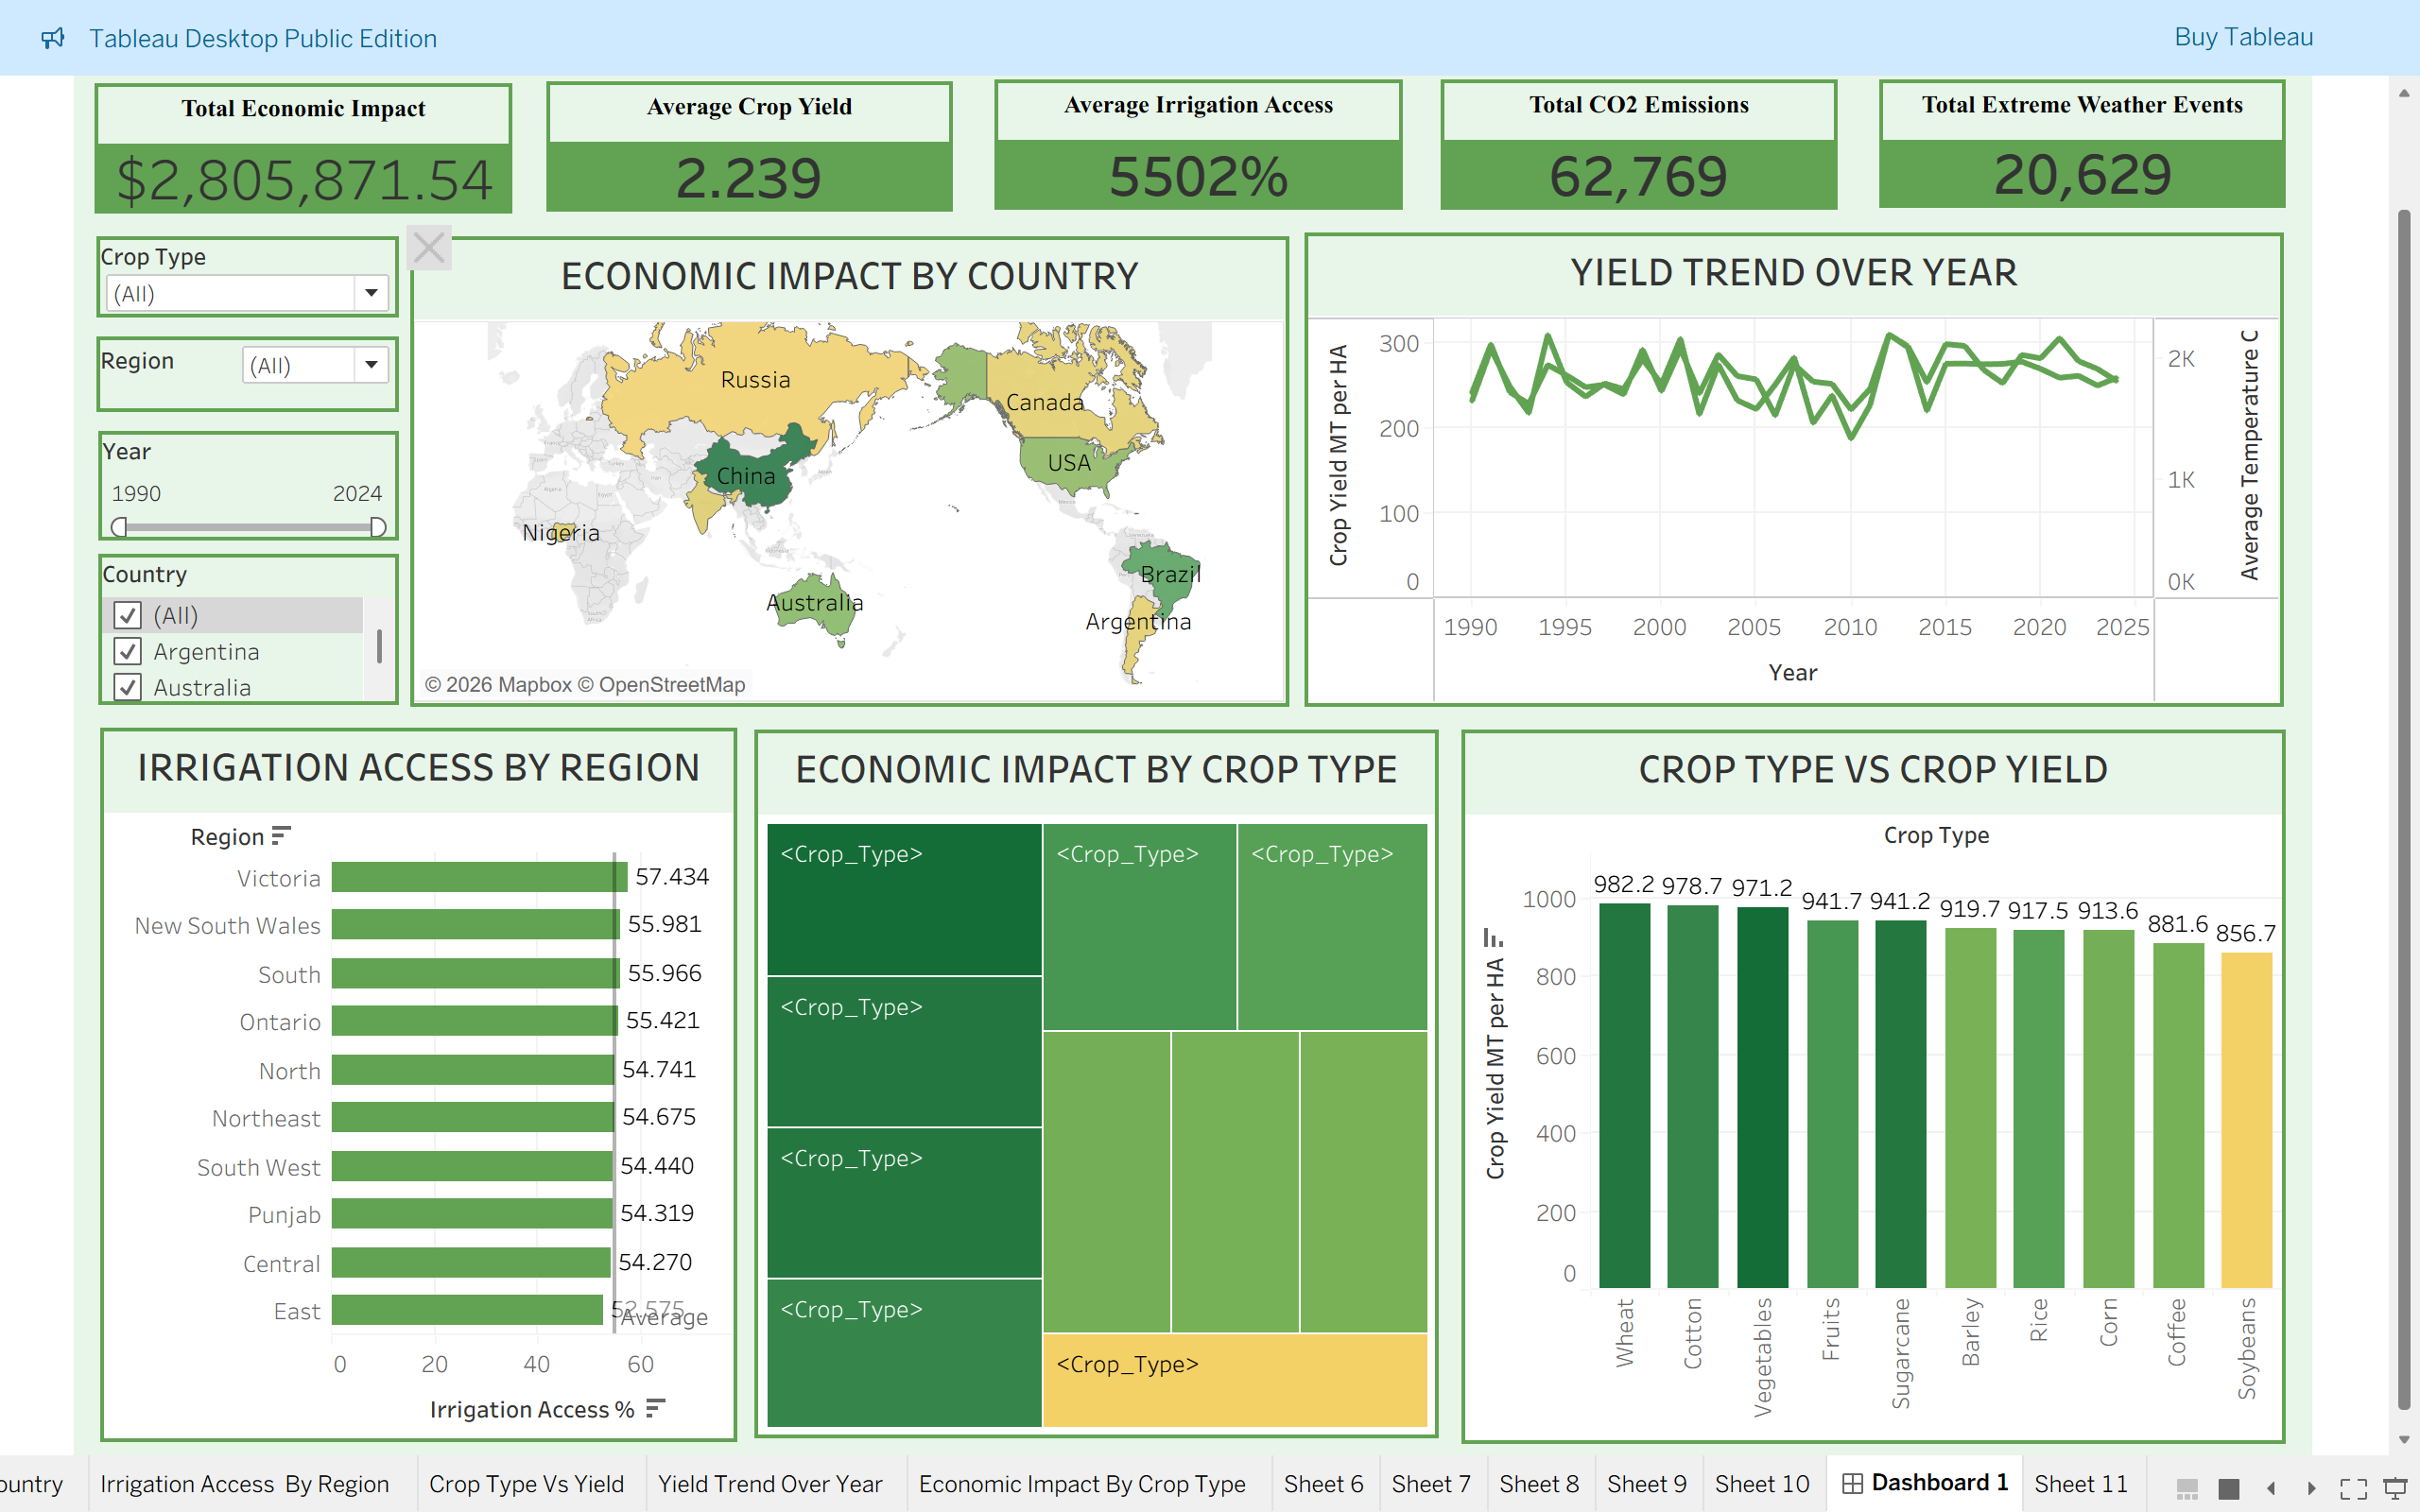

This screenshot's page, from the dashboard's own definition file:
{"tool":"tableau","page":{"name":"Dashboard 1","canvas":[1200,800],"ordinal":0},"visuals":[{"type":"text","box":[8,8,1184,56]},{"type":"worksheet","title":"Sheet 8","mark":"Text","box":[495,64,216,69]},{"type":"worksheet","title":"Sheet 9","mark":"Text","box":[731,64,210,69]},{"type":"worksheet","title":"Sheet 10","mark":"Automatic","box":[963,64,215,68]},{"type":"worksheet","title":"Sheet 7","mark":"Automatic","box":[258,65,215,69]},{"type":"worksheet","title":"Sheet 6","mark":"Text","box":[19,66,221,69]},{"type":"dashboard-object","box":[184,141,24,24]},{"type":"worksheet","title":"Yield Trend Over Year","mark":"Line","rows":["Crop_Yield_MT_per_HA","Average_Temperature_C"],"cols":["Year"],"box":[659,145,518,251]},{"type":"filter","title":"Economic Impact By Country","param":"[federated.0j0qhxg17w99xi14uyujq0z7jz9o].[none:Crop_Type:nk]","box":[20,147,160,43]},{"type":"worksheet","title":"Economic Impact By Country","mark":"Automatic","box":[186,147,465,249]},{"type":"filter","title":"Economic Impact By Country","param":"[federated.0j0qhxg17w99xi14uyujq0z7jz9o].[none:Region:nk]","box":[20,200,160,40]},{"type":"filter","title":"Economic Impact By Country","param":"[federated.0j0qhxg17w99xi14uyujq0z7jz9o].[none:Year:qk]","box":[21,250,159,58]},{"type":"filter","title":"Irrigation Access  By Region","param":"[federated.0j0qhxg17w99xi14uyujq0z7jz9o].[none:Country:nk]","box":[21,315,159,80]},{"type":"worksheet","title":"Irrigation Access  By Region","mark":"Automatic","rows":["Region"],"cols":["Irrigation_Access_%"],"box":[22,407,337,378]},{"type":"worksheet","title":"Economic Impact By Crop Type","mark":"Automatic","box":[368,408,362,375]},{"type":"worksheet","title":"Crop Type Vs Yield","mark":"Automatic","rows":["Crop_Yield_MT_per_HA"],"cols":["Crop_Type"],"box":[742,408,436,378]}]}

Visuals, with their boxes in screenshot pixels (x1, y1, x2, y2):
text: [left=84, top=0, right=2291, bottom=81]
"Sheet 8" worksheet (Text marks): [left=993, top=81, right=1395, bottom=210]
"Sheet 9" worksheet (Text marks): [left=1432, top=81, right=1824, bottom=210]
"Sheet 10" worksheet: [left=1865, top=81, right=2266, bottom=208]
"Sheet 7" worksheet: [left=550, top=83, right=951, bottom=212]
"Sheet 6" worksheet (Text marks): [left=105, top=85, right=517, bottom=214]
dashboard-object: [left=412, top=225, right=458, bottom=269]
"Yield Trend Over Year" worksheet (Line marks): [left=1298, top=232, right=2264, bottom=700]
"Economic Impact By Country" filter: [left=107, top=236, right=405, bottom=317]
"Economic Impact By Country" worksheet: [left=416, top=236, right=1283, bottom=700]
"Economic Impact By Country" filter: [left=107, top=335, right=405, bottom=409]
"Economic Impact By Country" filter: [left=109, top=428, right=405, bottom=536]
"Irrigation Access  By Region" filter: [left=109, top=549, right=405, bottom=698]
"Irrigation Access  By Region" worksheet: [left=111, top=721, right=738, bottom=1425]
"Economic Impact By Crop Type" worksheet: [left=755, top=723, right=1430, bottom=1421]
"Crop Type Vs Yield" worksheet: [left=1453, top=723, right=2266, bottom=1427]
